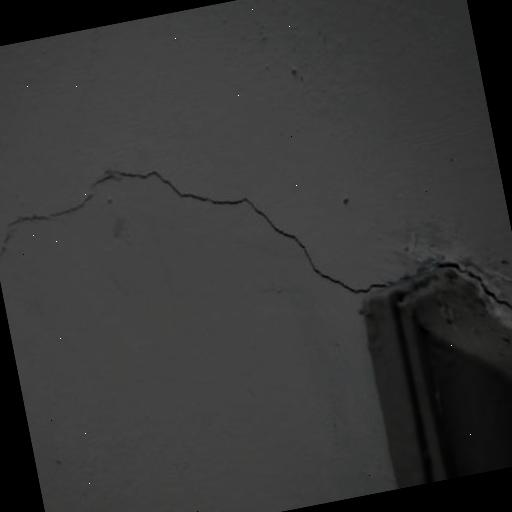spalling: (5, 157, 398, 297)
